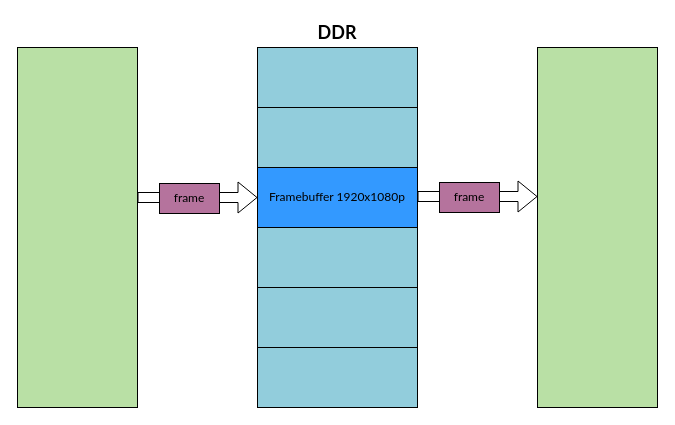
Some shapes in this 675 by 425 pixel diagram are drawn without their labels. Here are the shapes that lost their labels. From the top down, the centre of each, then its label:
At (77,227): "Framebuffer write".
At (597,227): "Framebuffer read".
